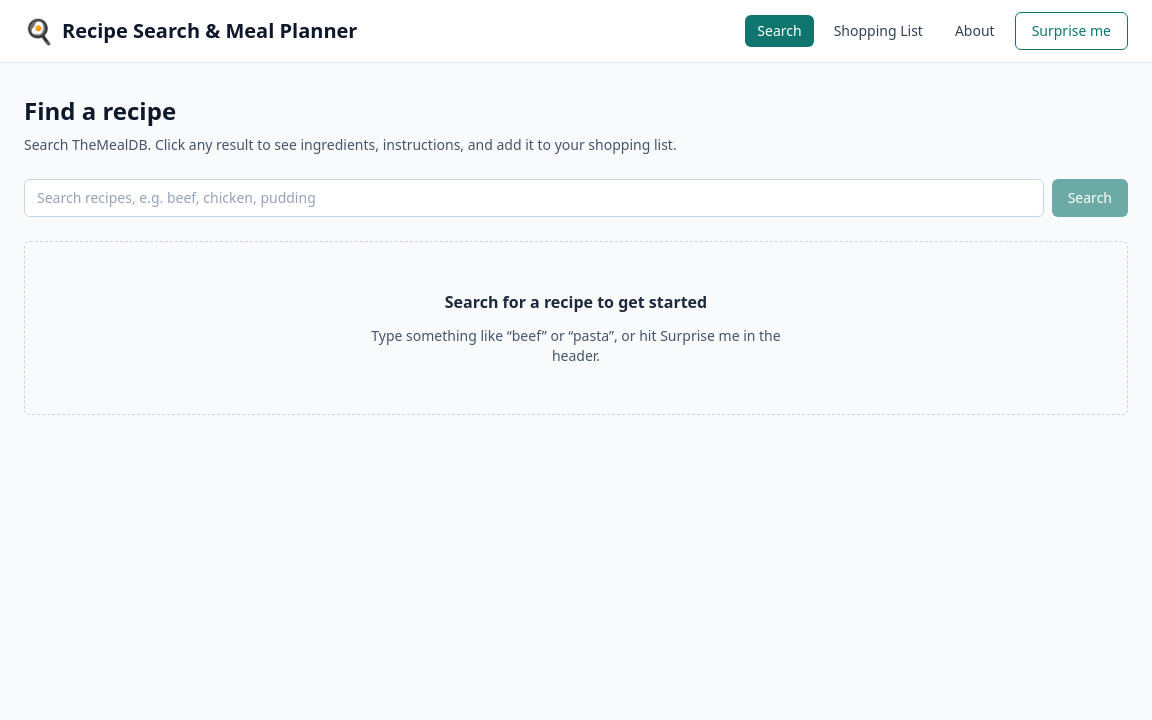
AppRouter › navigates to the About route via the nav link
Step 1. Click the link "About" → (975, 30), box [955,21,995,40]
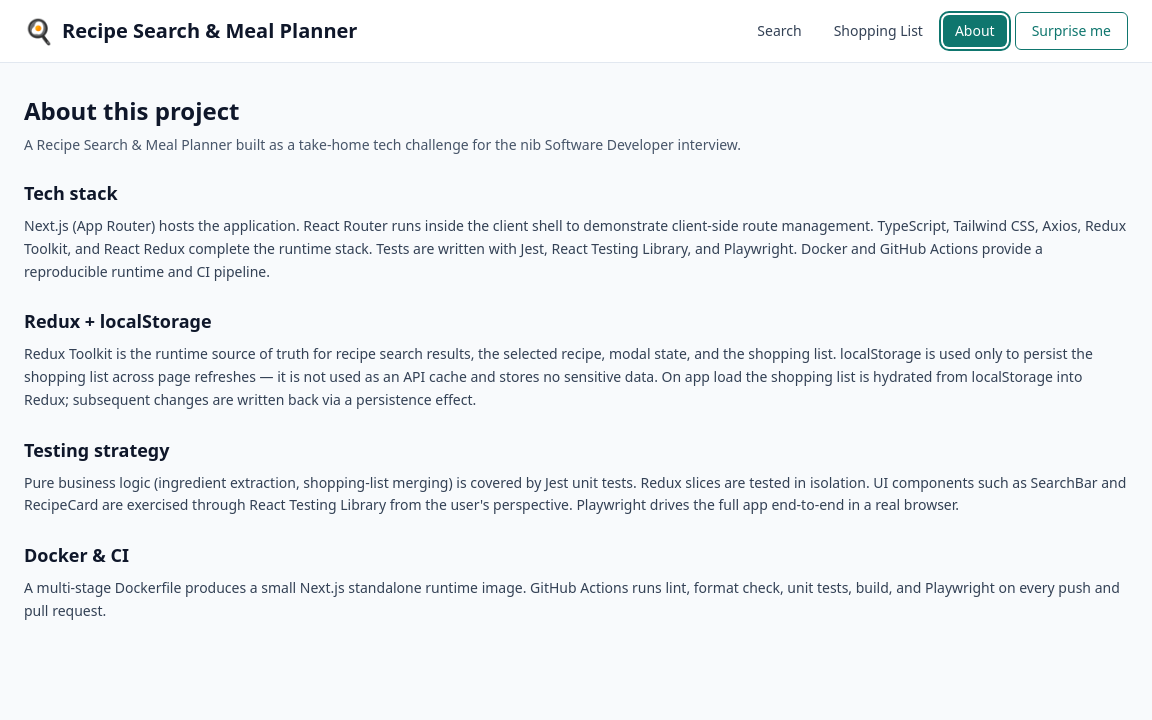
expect the heading "About this project" is shown: met, box [24,94,239,127]
